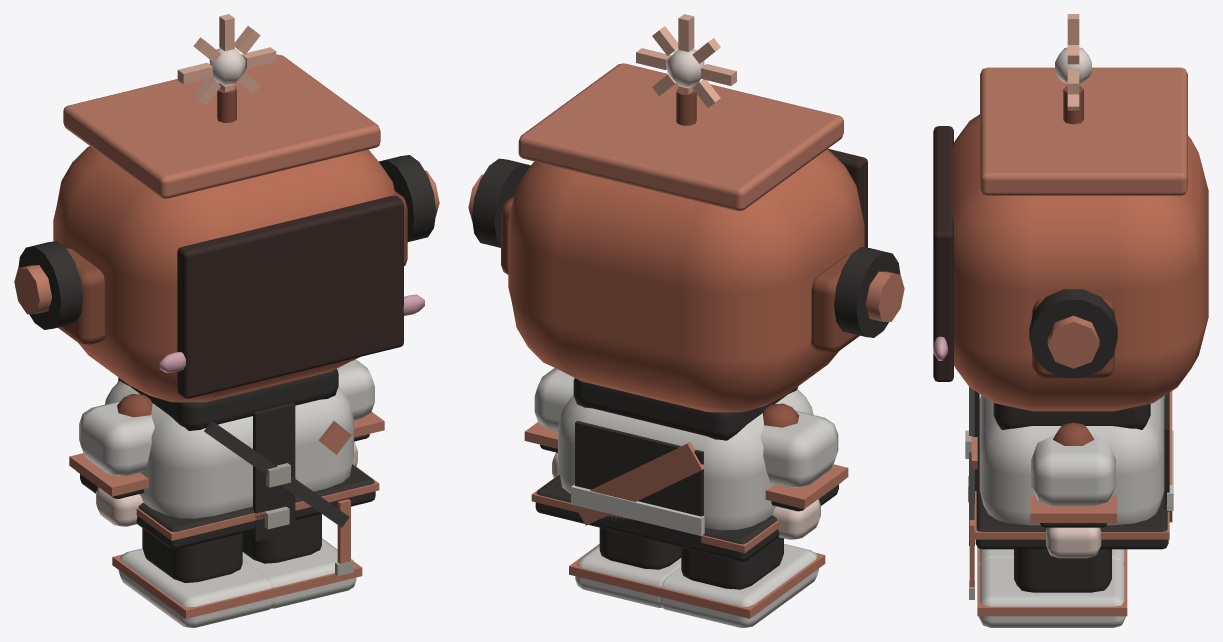
The model's file is claude-v1-rigged-meshopt.glb.
3 views of the same model, side by side, from view 1: azimuth 30°, elevation 25°; view 2: azimuth 150°, elevation 25°; view 3: azimuth 270°, elevation 25° (orthographic). The views are drawn at different scales.
Visible parts, largest first — view 1: head-mesh, face-mesh, body-mesh, legR-mesh, armR-mesh, legL-mesh, antenna-mesh, armL-mesh; view 2: head-mesh, body-mesh, legR-mesh, armR-mesh, legL-mesh, antenna-mesh, armL-mesh, face-mesh; view 3: head-mesh, body-mesh, legL-mesh, armL-mesh, face-mesh, antenna-mesh, legR-mesh.
Boxes of the visible parts, box(x1,y1,x2,y2) form: head-mesh: box(14, 54, 439, 402); face-mesh: box(177, 195, 403, 398); body-mesh: box(76, 368, 379, 575); legR-mesh: box(112, 528, 282, 627); armR-mesh: box(69, 394, 154, 526); legL-mesh: box(242, 514, 362, 608); antenna-mesh: box(177, 14, 276, 122); armL-mesh: box(337, 359, 384, 466); head-mesh: box(468, 63, 904, 412); body-mesh: box(531, 378, 842, 561); legR-mesh: box(650, 537, 825, 627); armR-mesh: box(760, 403, 848, 539); legL-mesh: box(569, 527, 681, 607); antenna-mesh: box(636, 14, 736, 125); armL-mesh: box(524, 368, 574, 477); face-mesh: box(827, 148, 867, 247); head-mesh: box(933, 67, 1208, 411); body-mesh: box(965, 387, 1173, 599); legL-mesh: box(977, 549, 1127, 627); armL-mesh: box(1030, 422, 1116, 558); face-mesh: box(933, 126, 953, 381); antenna-mesh: box(1055, 14, 1091, 124); legR-mesh: box(977, 547, 1127, 568).
Size of the model in its own units: 1.11 by 1.49 by 0.6466.
